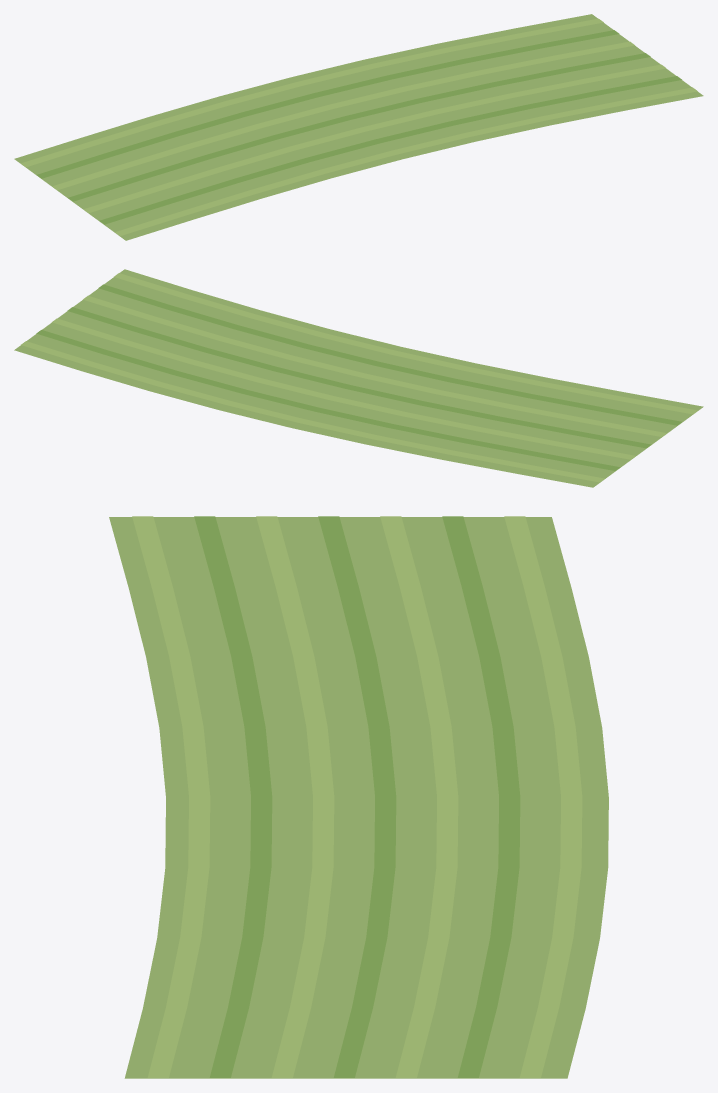
The model's file is Parcelle_2.fbx.
3 views of the same model, one above another, from view 1: azimuth 30°, elevation 25°; view 2: azimuth 150°, elevation 25°; view 3: azimuth 270°, elevation 25° (orthographic). The views are drawn at different scales.
Visible parts, largest first — view 1: Parcelle_2; view 2: Parcelle_2; view 3: Parcelle_2.
Boxes of the visible parts, x1,y1,x2,y2 form: Parcelle_2: [14, 14, 703, 240]; Parcelle_2: [14, 269, 703, 487]; Parcelle_2: [109, 516, 608, 1078].
Size of the model in its own units: 2400 by 1.7 by 903.
1 material, 1 textured.
